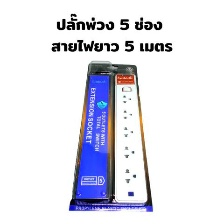book: (66, 59, 159, 216)
three_eye_plug: (111, 71, 150, 206)
